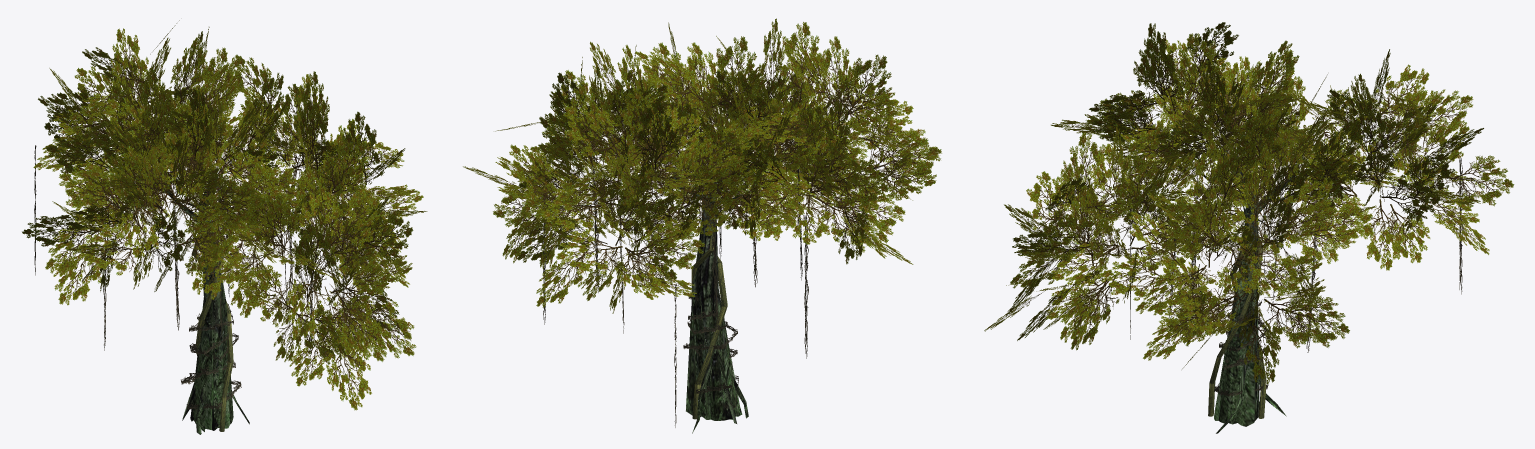
Rendered from big_tree2.fbx.
The picture shows the model from 3 angles, left to right: view 1: azimuth 30°, elevation 25°; view 2: azimuth 150°, elevation 25°; view 3: azimuth 270°, elevation 25°; orthographic projection. The views are drawn at different scales.
Visible parts, largest first — view 1: Plane.001; view 2: Plane.001; view 3: Plane.001.
Part boxes in pixels (x1,y1,x2,y2): Plane.001: [22, 20, 427, 434]; Plane.001: [463, 18, 941, 433]; Plane.001: [984, 22, 1514, 433].
Size of the model in its own units: 4055 by 3676 by 4759.
5 materials, 5 textured.
